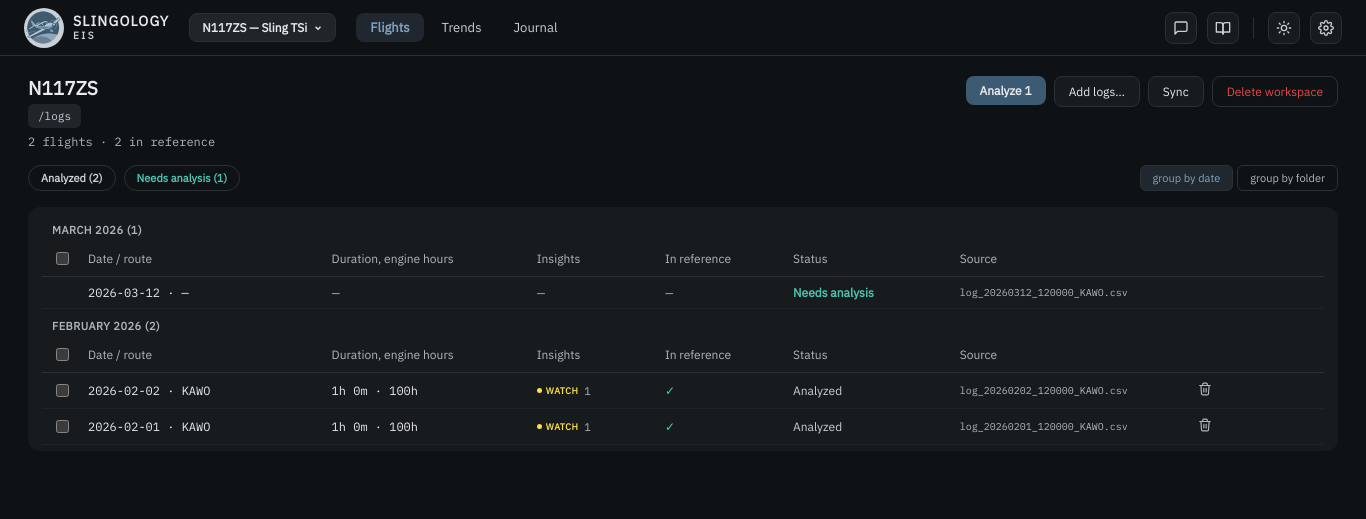
Test: Flights — adding logs and Sync consent › a Needs-analysis row offers Analyze this flight instead of opening the Flight view
Click the row with test id "pending-row" at coordinates (683, 292), box [42, 276, 1324, 308]
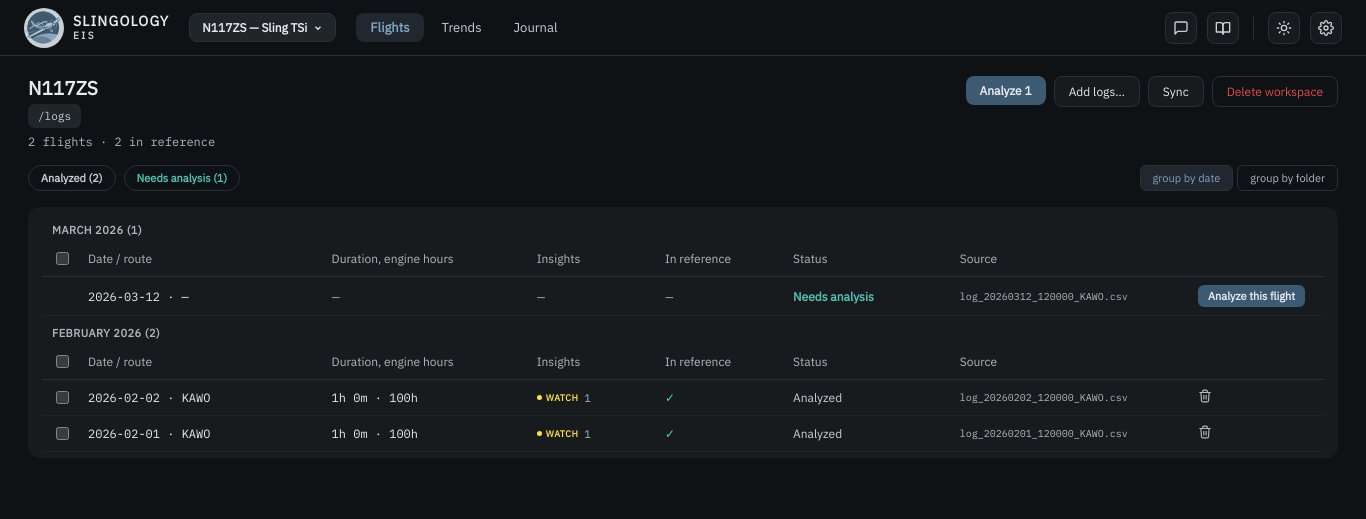
Click the button "Analyze this flight" at coordinates (1252, 296), box [1198, 285, 1305, 307]
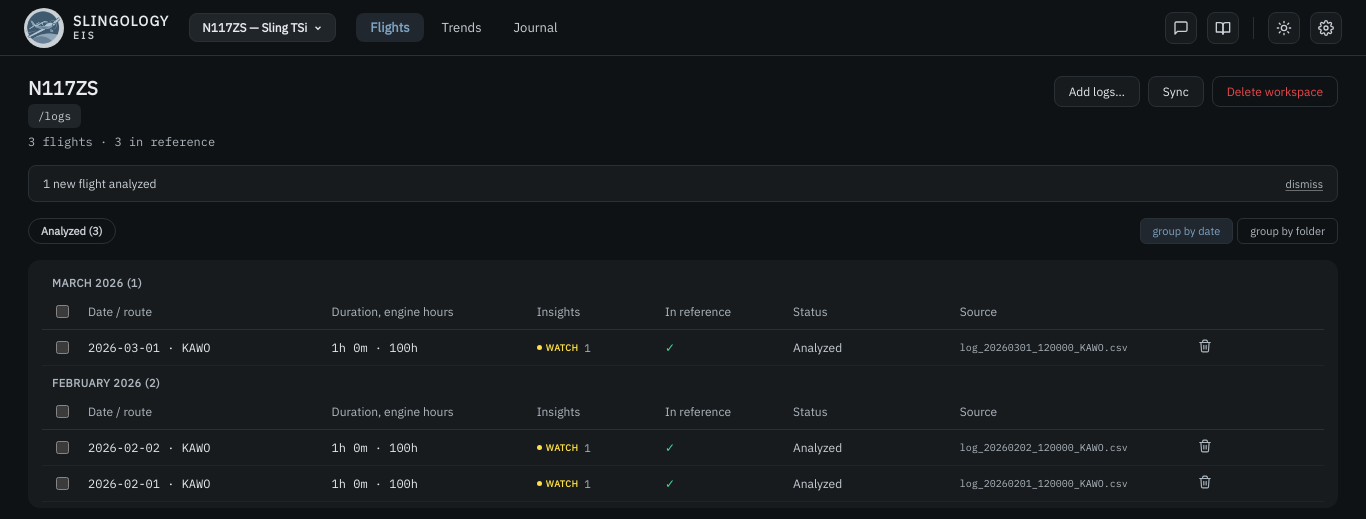
Check: no rows with test id "pending-row" are shown
